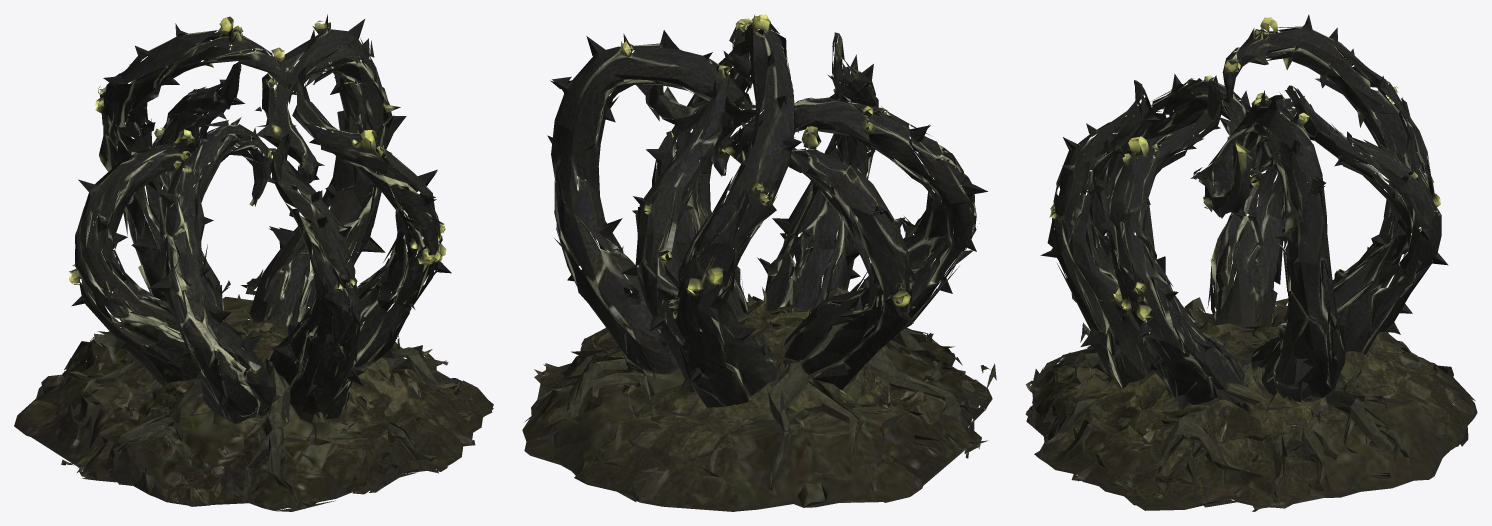
Rendered from roots.glb.
The picture shows the model from 3 angles, left to right: view 1: azimuth 30°, elevation 25°; view 2: azimuth 150°, elevation 25°; view 3: azimuth 270°, elevation 25°; orthographic projection. The views are drawn at different scales.
Parts seen in each view (by area): view 1: Mesh_0; view 2: Mesh_0; view 3: Mesh_0.
Part boxes in pixels (box(x1,y1,x2,y2)): Mesh_0: box(14, 14, 493, 511); Mesh_0: box(522, 14, 996, 511); Mesh_0: box(1025, 14, 1477, 511).
Bounding box in the file's own units: 1.06 × 0.9999 × 1.04.
Materials: 1 (1 with a texture image).
